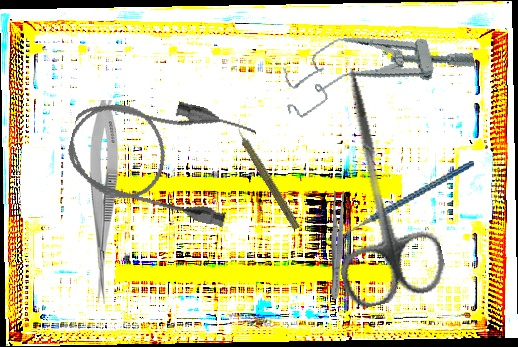Cannula: (59, 78, 259, 230)
Chopper: (327, 160, 485, 248)
Dressing Forceps: (328, 190, 346, 300)
Handpiece: (228, 118, 305, 232)
Iris Scissors: (296, 57, 451, 312)
Micro Scissor: (89, 100, 119, 304)
Speculum: (275, 11, 479, 121)
